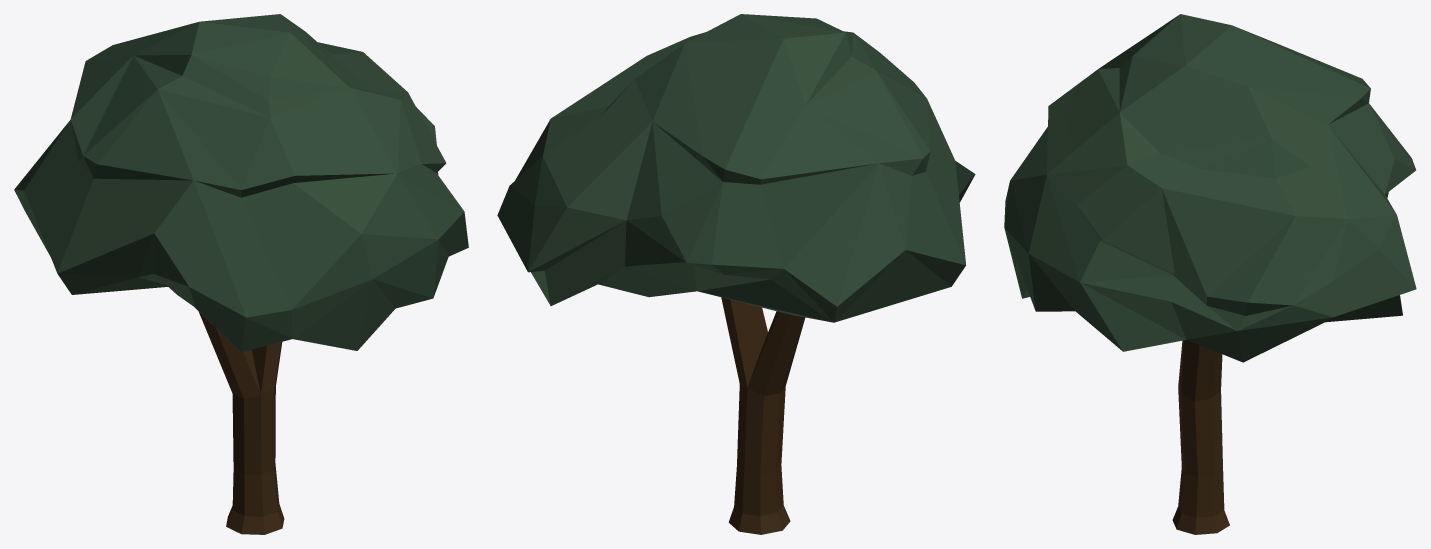
File: SM_Env_Tree_04.fbx
3 renders of one model, left to right at view 1: azimuth 30°, elevation 25°; view 2: azimuth 150°, elevation 25°; view 3: azimuth 270°, elevation 25°, orthographic. The views are drawn at different scales.
Visible parts, largest first — view 1: SM_Tree_04; view 2: SM_Tree_04; view 3: SM_Tree_04.
Part boxes in pixels (left/top/right/bottom): SM_Tree_04: left=14, top=14, right=468, bottom=534; SM_Tree_04: left=497, top=14, right=975, bottom=534; SM_Tree_04: left=1004, top=14, right=1416, bottom=534.
Size of the model in its own units: 3.99 by 4.7 by 3.66.
